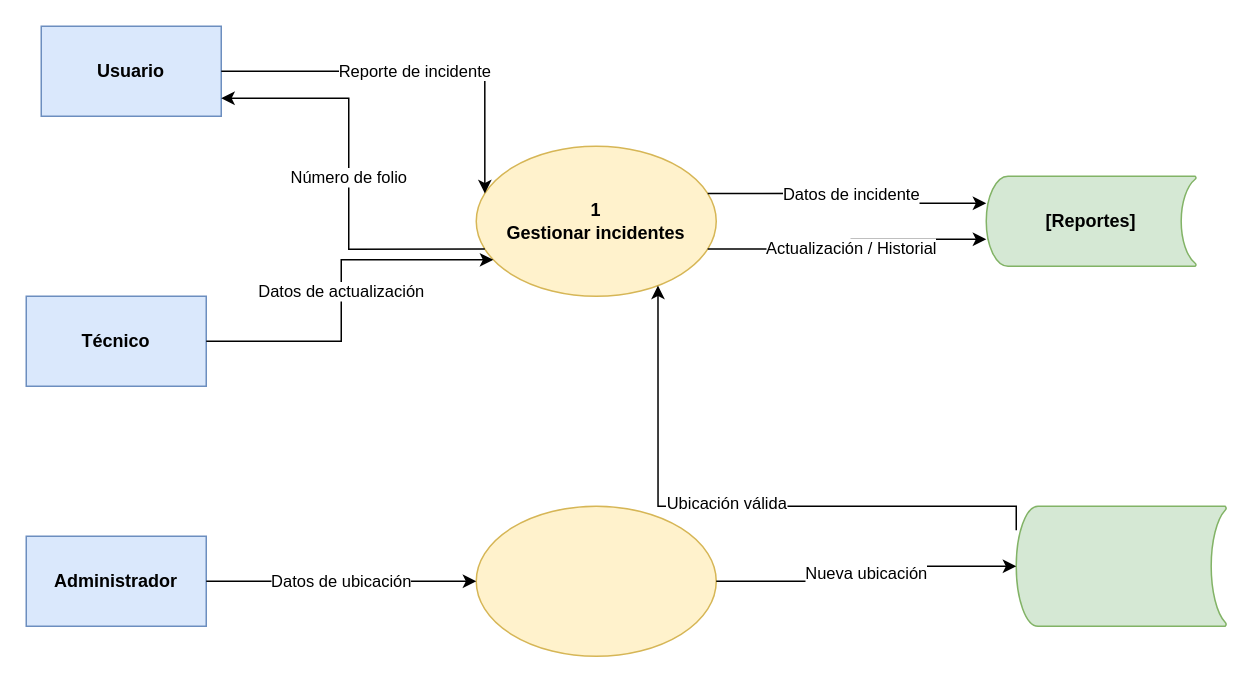
The diagram is 1253 pixels wide and 683 high, and some of its shapes have lost their labels. The centre of each missing label's shape, as x and y in pixels:
"2 Gestionar catálogo de ubicaciones" belongs at pixel 595 580.
"[Ubicaciones]" belongs at pixel 1120 565.
